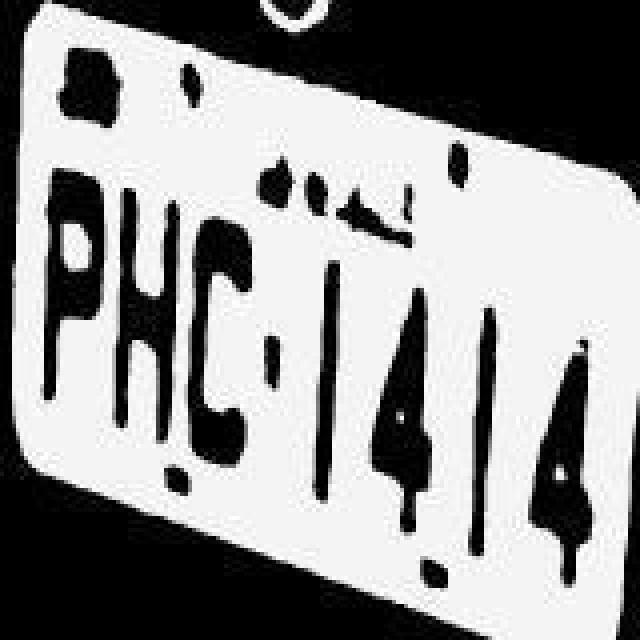1: (456, 282, 512, 574), (300, 238, 356, 514)
4: (522, 316, 606, 612), (360, 280, 440, 552)
C: (184, 214, 264, 474)
H: (108, 174, 180, 458)
P: (34, 164, 110, 428)
